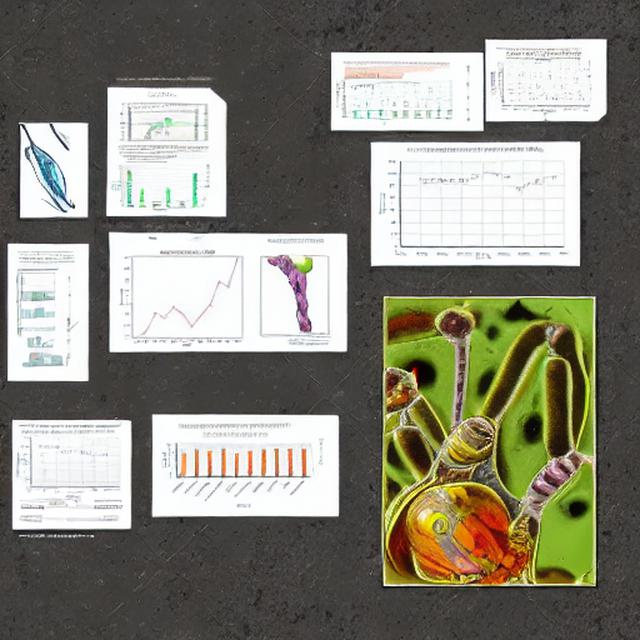Graph: (379, 144, 572, 262), (114, 243, 257, 350), (157, 419, 313, 509), (15, 429, 125, 497), (493, 56, 592, 114), (108, 159, 203, 214)
